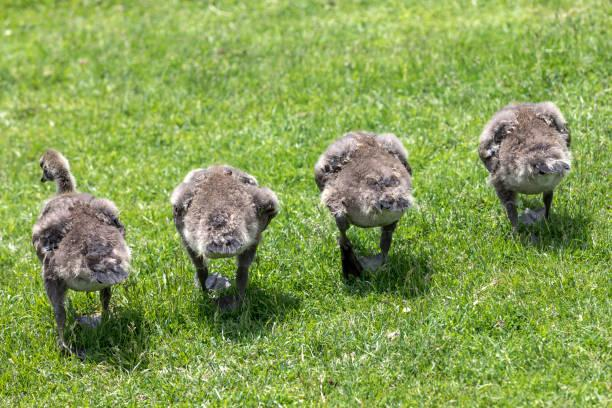Canadian-Goose: (33, 148, 134, 349), (170, 163, 278, 321), (312, 128, 416, 276), (477, 101, 574, 232)
